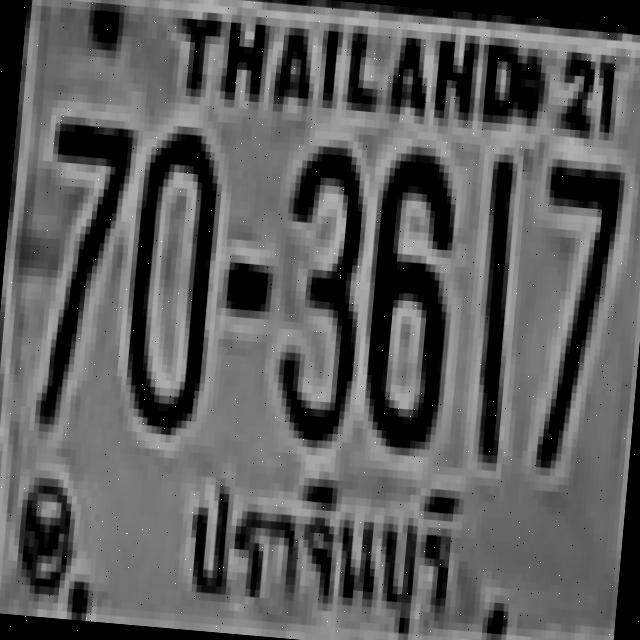0: (118, 122, 222, 428)
1: (465, 149, 521, 459)
3: (268, 140, 367, 438)
6: (356, 144, 455, 442)
7: (522, 158, 620, 464), (30, 119, 128, 425), (35, 115, 128, 352), (528, 158, 620, 387)
PrachinBuri: (167, 459, 465, 640)
